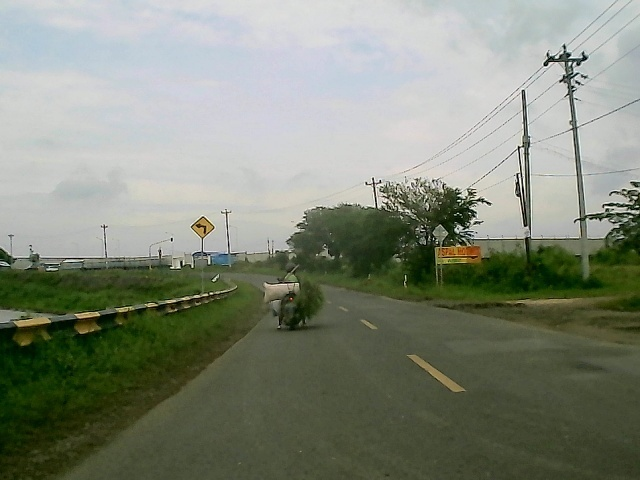Tikungan tajam ke kiri: (188, 215, 216, 241)
